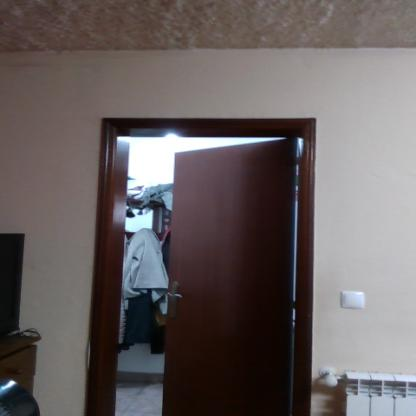semi: (79, 91, 317, 415)
